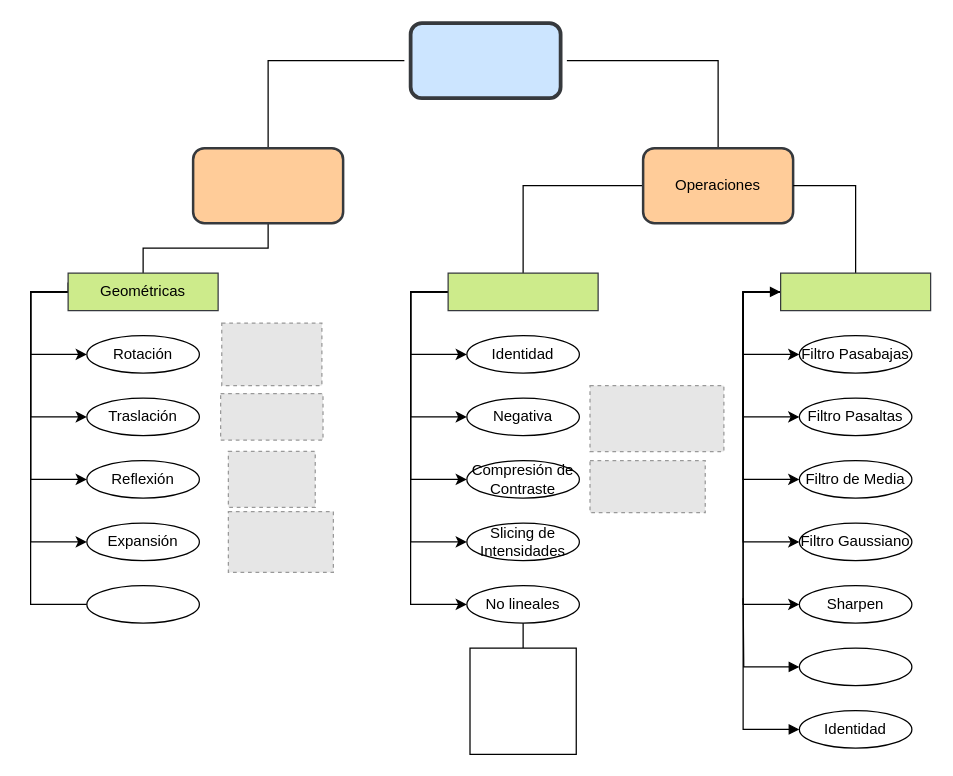
Some shapes in this 953 by 776 pixel diagram are drawn without their labels. Grey dashed boxes stand in for pictures. The box of each missing label's shape, as (x1, y1, x2, y2) in pixels:
- Logarítmica - Exponencial - Thresholding - Ecualización de Histograma: (469, 647, 576, 754)
Corte: (86, 584, 199, 623)
Detección de Bordes: (798, 647, 912, 686)
Manipulación de Imágenes: (408, 21, 562, 99)
Procesamiento de Puntos: (447, 272, 598, 311)
Procesamiento de Área o Máscara: (779, 272, 931, 311)
Transformaciones: (191, 146, 344, 224)
